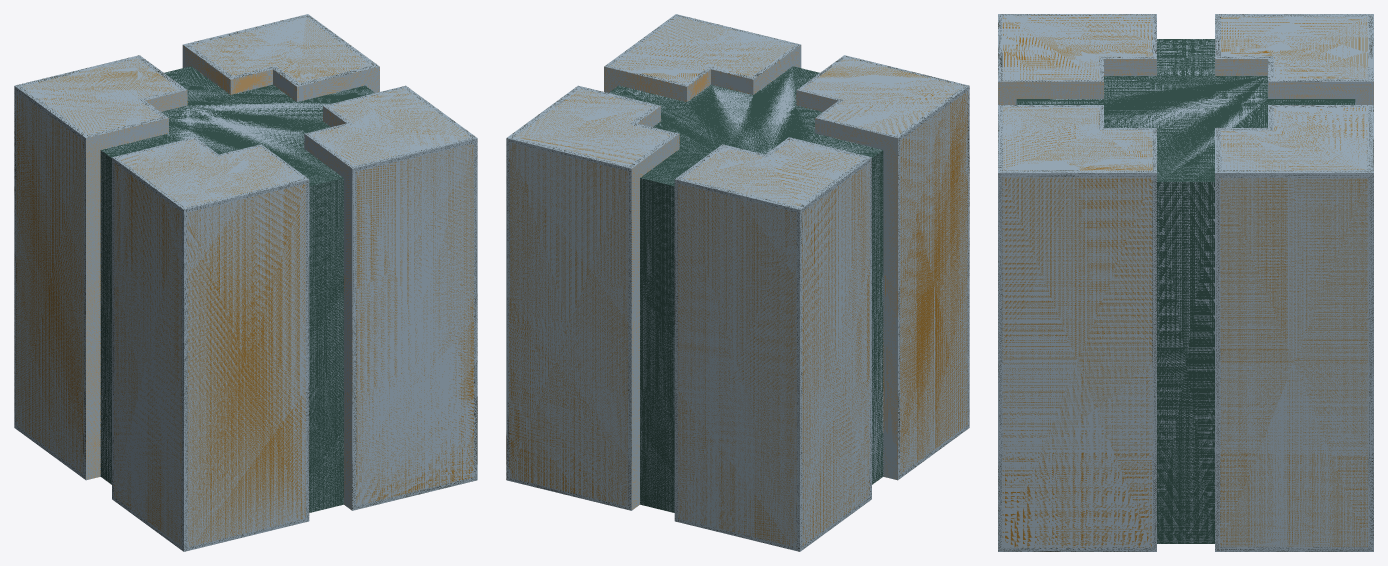
File: Wall.fbx
3 views of the same model, side by side, from view 1: azimuth 30°, elevation 25°; view 2: azimuth 150°, elevation 25°; view 3: azimuth 270°, elevation 25° (orthographic). The views are drawn at different scales.
Parts seen in each view (by area): view 1: Wall1; view 2: Wall1; view 3: Wall1.
Part boxes in pixels (x1,y1,x2,y2): Wall1: [14, 14, 477, 551]; Wall1: [506, 14, 969, 551]; Wall1: [998, 14, 1373, 551].
Size of the model in its own units: 0.8 by 0.89 by 0.8.
